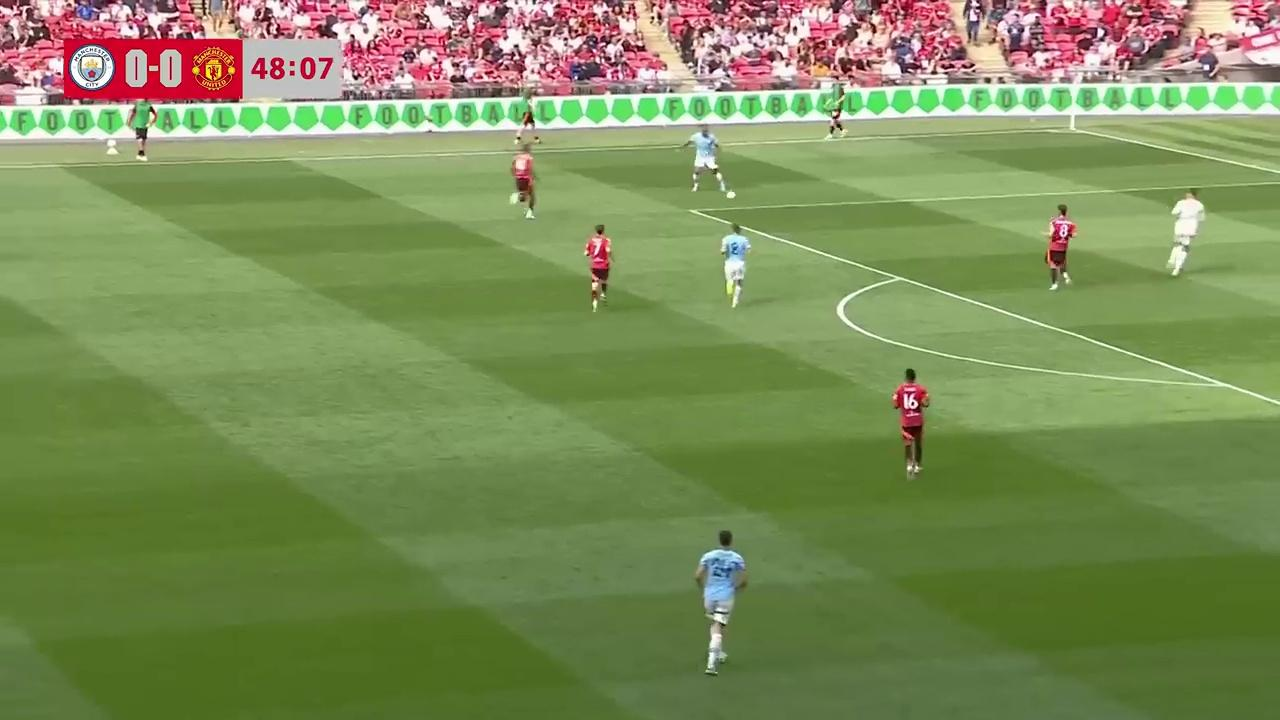ball: (725, 186, 736, 201)
player: (694, 529, 748, 677), (892, 367, 930, 480), (1166, 190, 1203, 276), (688, 128, 733, 194), (1044, 204, 1077, 289), (584, 224, 613, 313), (719, 226, 750, 308), (509, 145, 537, 219)
